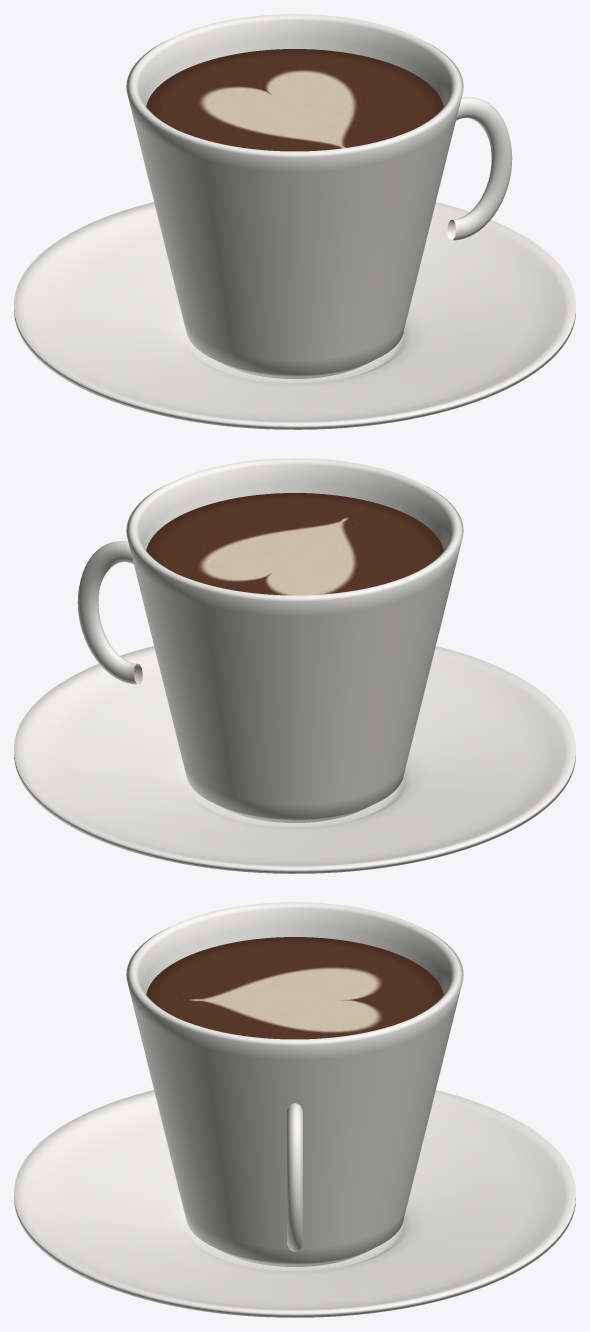
File: hot-chocolate.glb
The picture shows the model from 3 angles, top to bottom: view 1: azimuth 30°, elevation 25°; view 2: azimuth 150°, elevation 25°; view 3: azimuth 270°, elevation 25°; orthographic projection.
Visible parts, largest first — view 1: ceramic, satin; view 2: ceramic, satin; view 3: ceramic, satin.
Boxes of the visible parts, bbox=[...] form: ceramic: bbox=[14, 14, 575, 429]; satin: bbox=[146, 49, 443, 151]; ceramic: bbox=[14, 458, 575, 873]; satin: bbox=[146, 493, 443, 595]; ceramic: bbox=[14, 902, 575, 1317]; satin: bbox=[146, 937, 443, 1039].
Size of the model in its own units: 0.16 by 0.0852 by 0.16.
2 materials, 2 textured.
